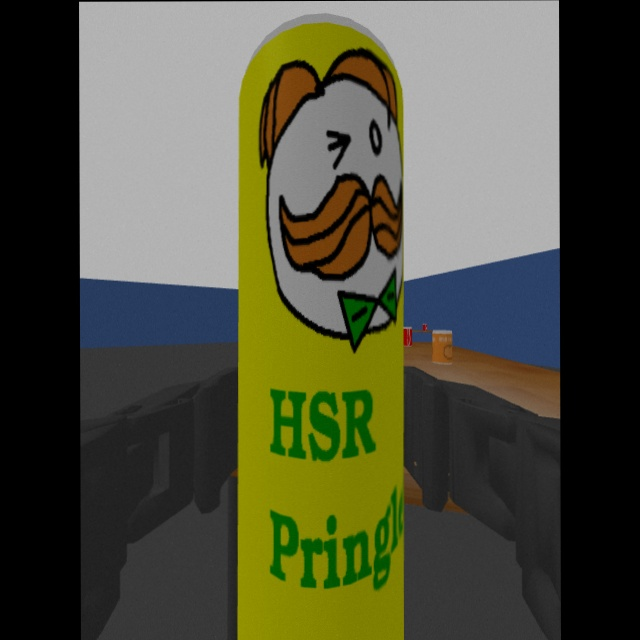chipsdose_gelb: (237, 12, 405, 640)
